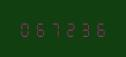seven: (48, 20, 62, 37)
six: (32, 20, 46, 37), (93, 20, 107, 37)
three: (78, 20, 92, 37)
two: (63, 20, 77, 37)
zero: (17, 20, 31, 37)
